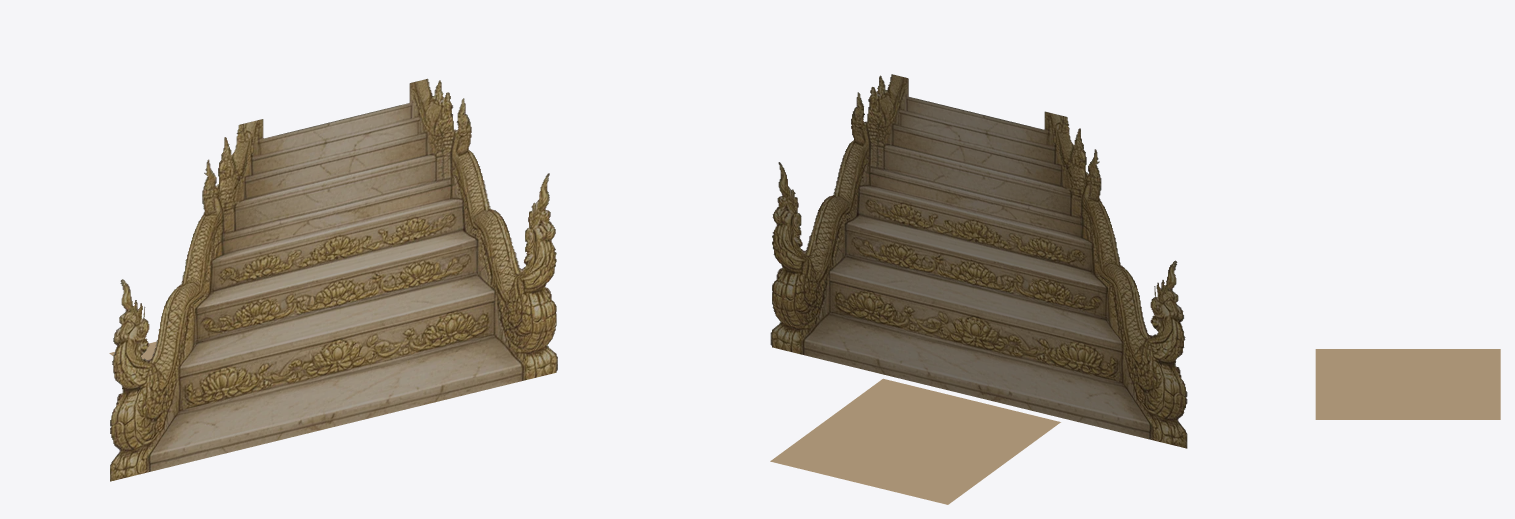
The model's file is toad-standee-palace-step.glb.
3 renders of one model, left to right at view 1: azimuth 30°, elevation 25°; view 2: azimuth 150°, elevation 25°; view 3: azimuth 270°, elevation 25°, orthographic. The views are drawn at different scales.
Visible parts, largest first — view 1: palace-step; view 2: palace-step; view 3: palace-step.
Part boxes in pixels (x1=…): palace-step: x1=109, y1=78, x2=557, y2=481; palace-step: x1=770, y1=74, x2=1187, y2=504; palace-step: x1=1315, y1=349, x2=1500, y2=419.
Size of the model in its own units: 0.1 by 0.0501 by 0.035.
1 material, 1 textured.
